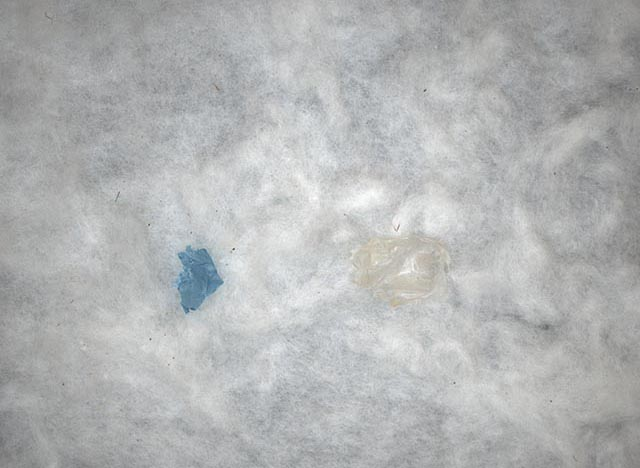plastic film: (348, 239, 451, 305), (175, 247, 223, 314)
